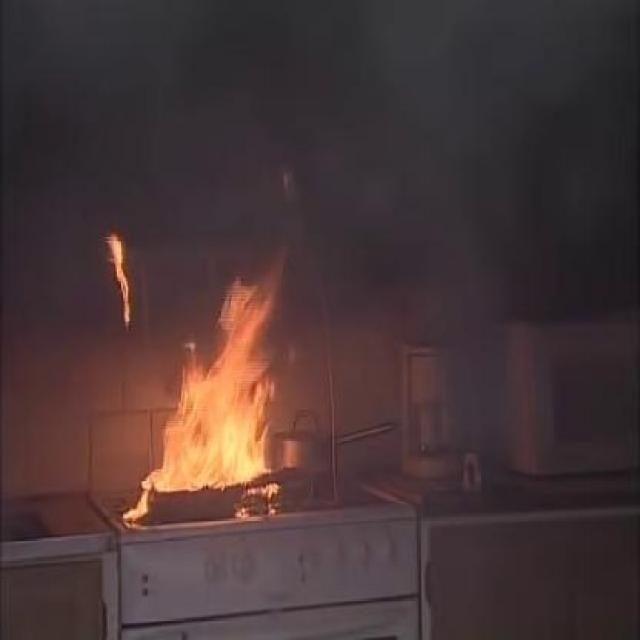fire: (104, 224, 288, 508)
